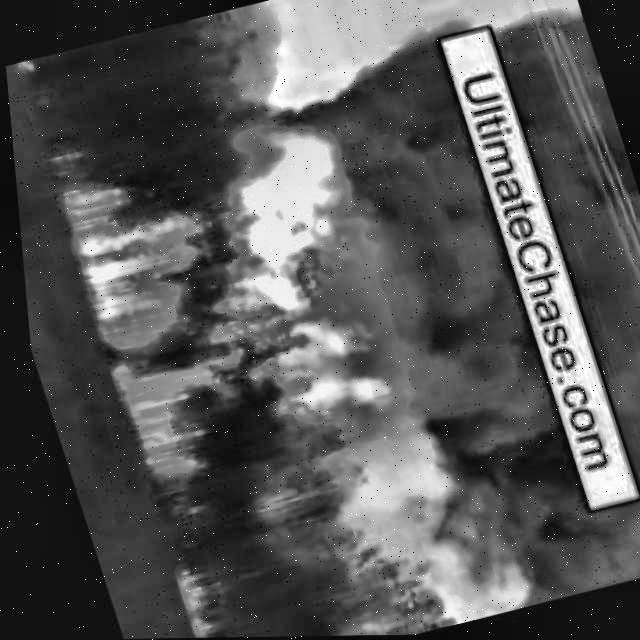Fire: (42, 114, 414, 477), (164, 565, 216, 639)
Smoke: (291, 29, 603, 623), (490, 2, 640, 573)
